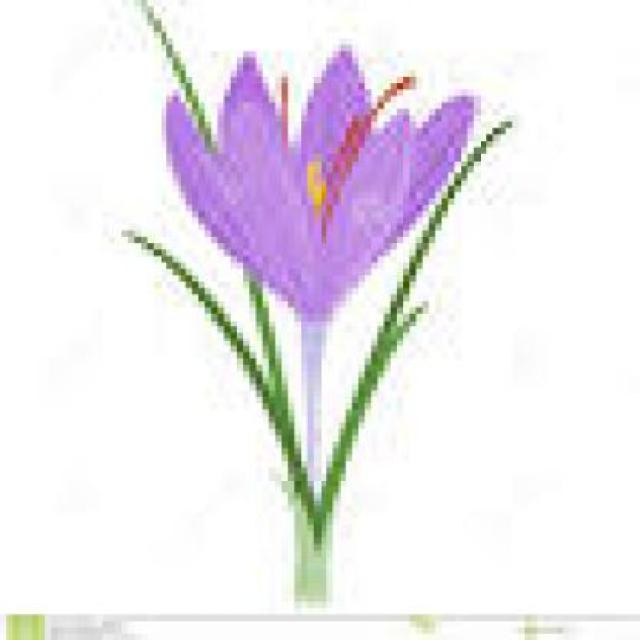Flower: (165, 46, 487, 326)
stigma: (325, 69, 424, 215)
